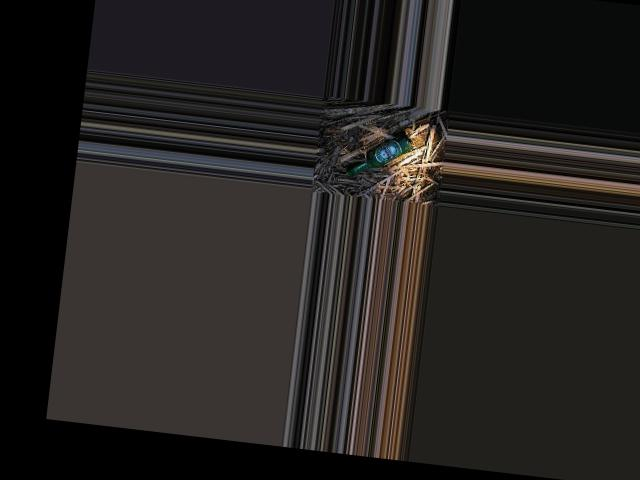beer: (345, 124, 414, 182)
